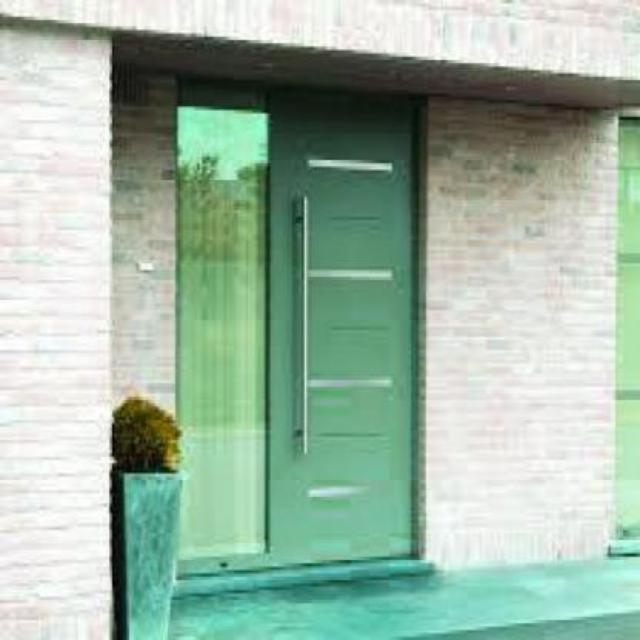door: (266, 90, 417, 564)
